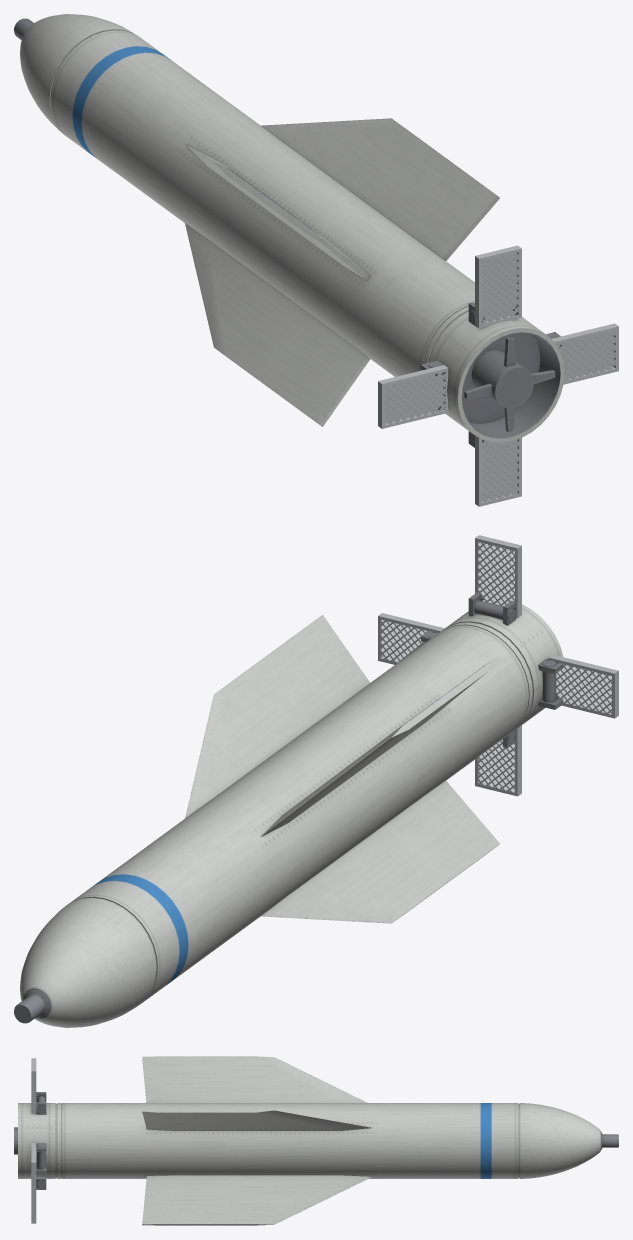
File: w_gbu57.glb
3 views of the same model, one above another, from view 1: azimuth 30°, elevation 25°; view 2: azimuth 150°, elevation 25°; view 3: azimuth 270°, elevation 25° (orthographic). The views are drawn at different scales.
Visible parts, largest first — view 1: body|G57_body, body|G57_fin, body|G57_lattice, body|G57_steel, body|G57_band; view 2: body|G57_body, body|G57_fin, body|G57_lattice, body|G57_steel, body|G57_band; view 3: body|G57_body, body|G57_fin, body|G57_steel, body|G57_band, body|G57_lattice.
Part boxes in pixels (x1=…): body|G57_body: x1=20, y1=14, x2=564, y2=442; body|G57_fin: x1=185, y1=118, x2=499, y2=426; body|G57_lattice: x1=378, y1=245, x2=618, y2=506; body|G57_steel: x1=14, y1=18, x2=561, y2=447; body|G57_band: x1=72, y1=46, x2=170, y2=158; body|G57_body: x1=20, y1=604, x2=563, y2=1027; body|G57_fin: x1=185, y1=615, x2=500, y2=923; body|G57_lattice: x1=378, y1=535, x2=618, y2=796; body|G57_steel: x1=14, y1=592, x2=563, y2=1023; body|G57_band: x1=91, y1=874, x2=188, y2=985; body|G57_body: x1=18, y1=1103, x2=600, y2=1178; body|G57_fin: x1=142, y1=1056, x2=371, y2=1225; body|G57_steel: x1=14, y1=1092, x2=618, y2=1189; body|G57_band: x1=480, y1=1103, x2=491, y2=1178; body|G57_lattice: x1=31, y1=1058, x2=36, y2=1223.
Bounding box in the file's own units: 1.75 × 1.75 × 6.31.
Materials: 5 (4 with a texture image).
